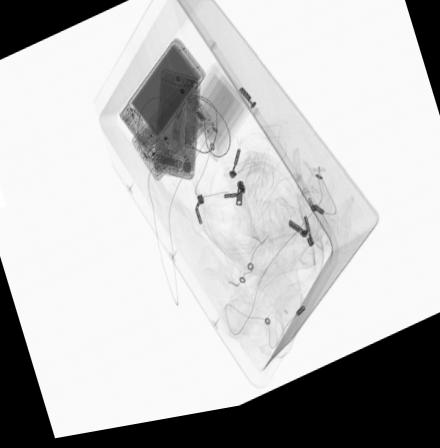Powerbank: (117, 40, 208, 159)
